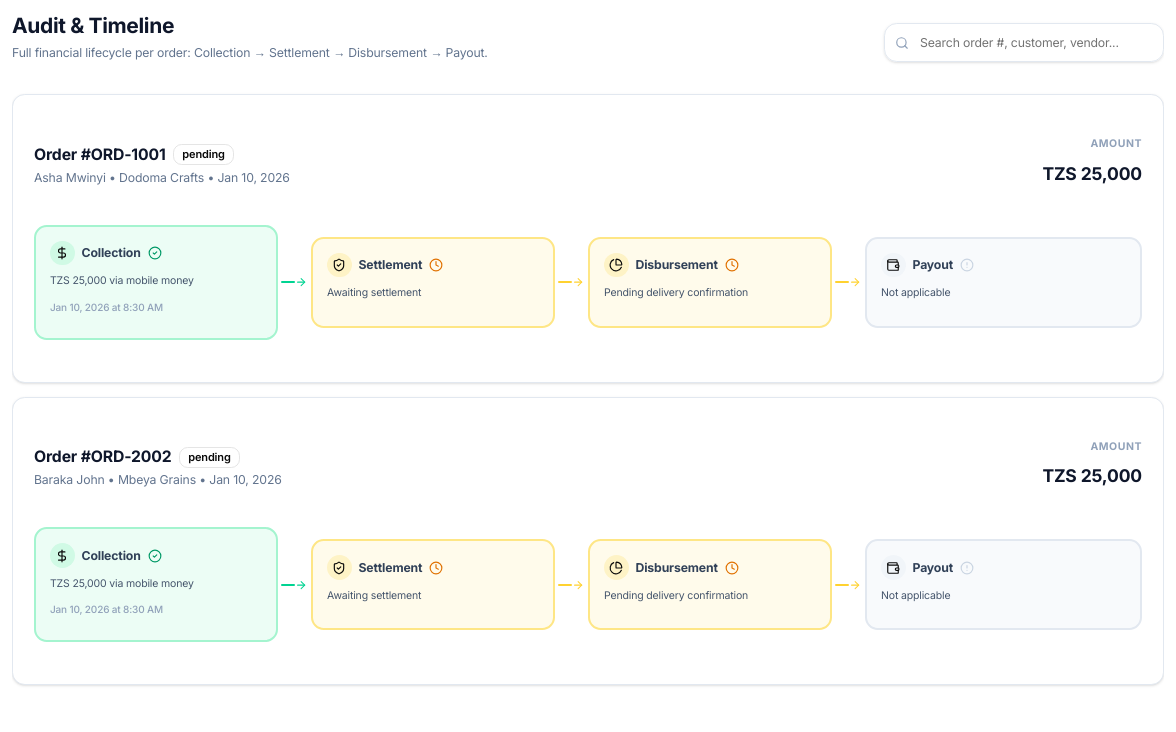
it: FinanceAuditTab › search › filters by order number
Type "2002" into the field with placeholder "Search order #, customer, vendor..." at coordinates (1024, 43), box [884, 23, 1164, 62]
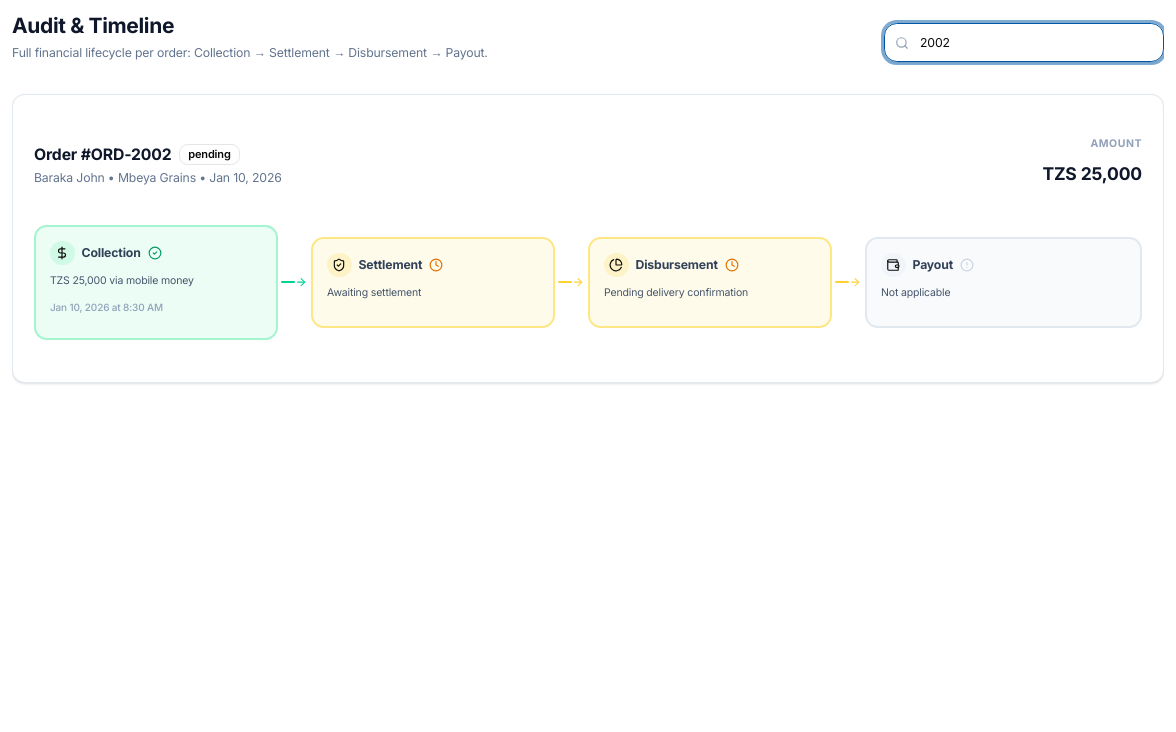
Expected: the text "Order #ORD-2002" is shown, [34, 142, 172, 167]
Expected: the text "Order #ORD-1001" is gone
